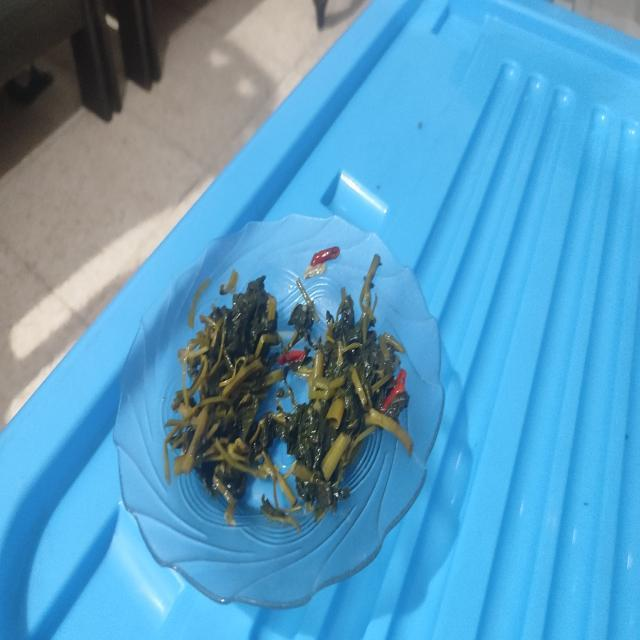tumis_kangkung: (282, 287, 412, 520), (166, 270, 283, 524)
